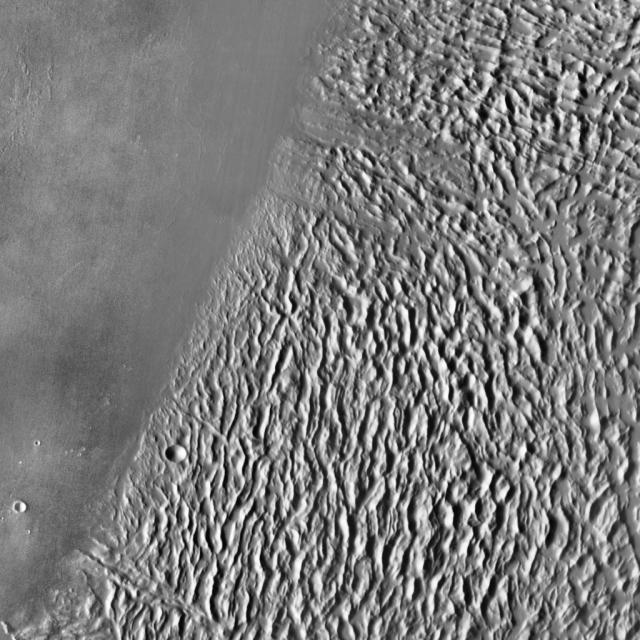crater: (168, 446, 186, 462), (15, 502, 25, 512)
